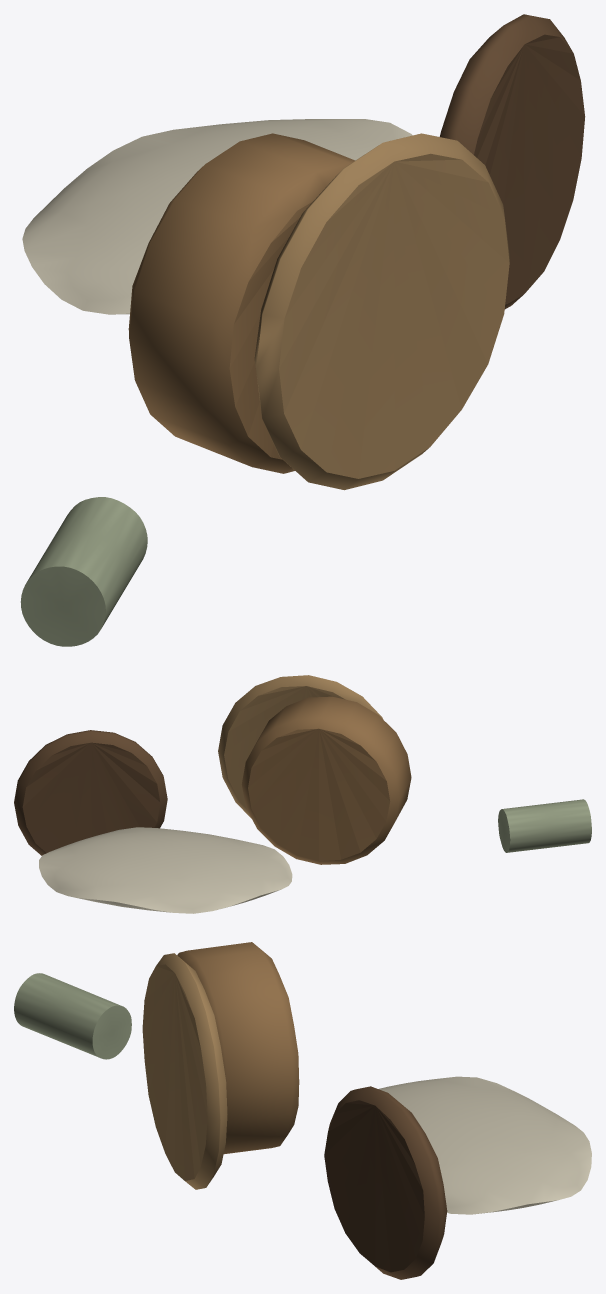
The model's file is watch_stool_b.glb.
3 renders of one model, top to bottom at view 1: azimuth 30°, elevation 25°; view 2: azimuth 150°, elevation 25°; view 3: azimuth 270°, elevation 25°, orthographic. The views are drawn at different scales.
Parts seen in each view (by area): view 1: Surface; view 2: Surface; view 3: Surface.
Part boxes in pixels (left/top/right/bottom): Surface: left=20, top=14, right=585, bottom=646; Surface: left=14, top=675, right=591, bottom=913; Surface: left=14, top=942, right=591, bottom=1279.
Bounding box in the file's own units: 2.44 × 0.9407 × 2.22.
